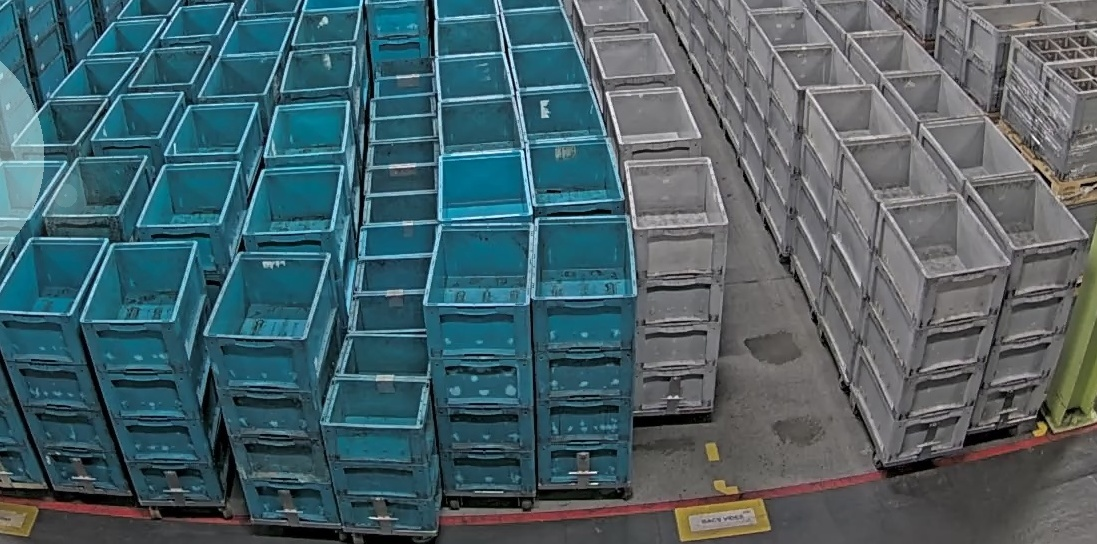4G: (851, 195, 1010, 466), (960, 172, 1090, 434), (624, 160, 729, 412)
B4: (80, 233, 230, 508), (203, 252, 342, 529), (1, 238, 133, 497), (423, 223, 537, 497), (532, 214, 637, 485)
B8: (321, 332, 437, 533)
